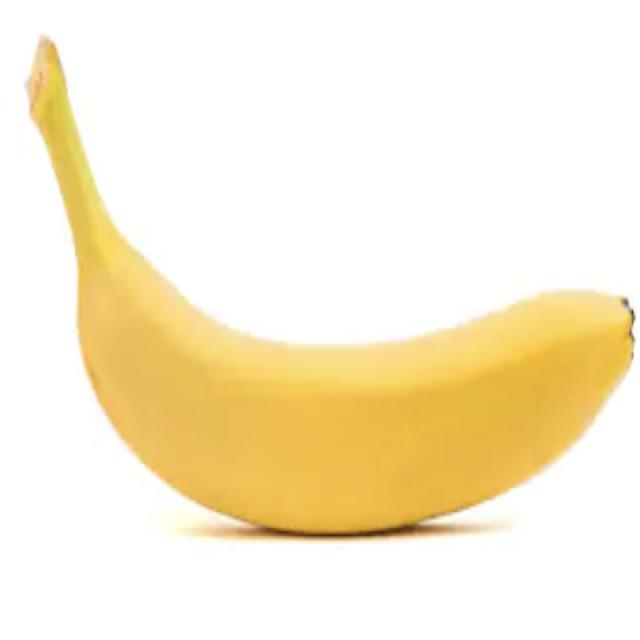Ripe: (15, 29, 639, 550)
